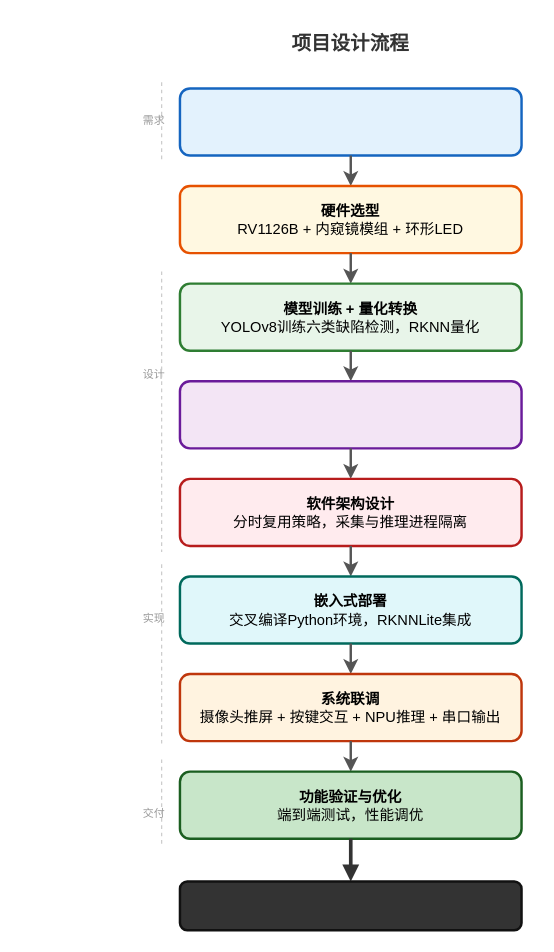
Image size: 554x952. Some labels were removed from this diagram. Each missing label, with the centre of its shape:
"完成部署" goes at (x=350, y=905).
"需求分析 明确小口径管道内壁检测痛点" goes at (x=350, y=121).
"预处理管线设计 去噪 → 对比度增强 → 反光抑制 → 畸变校正" goes at (x=350, y=414).
